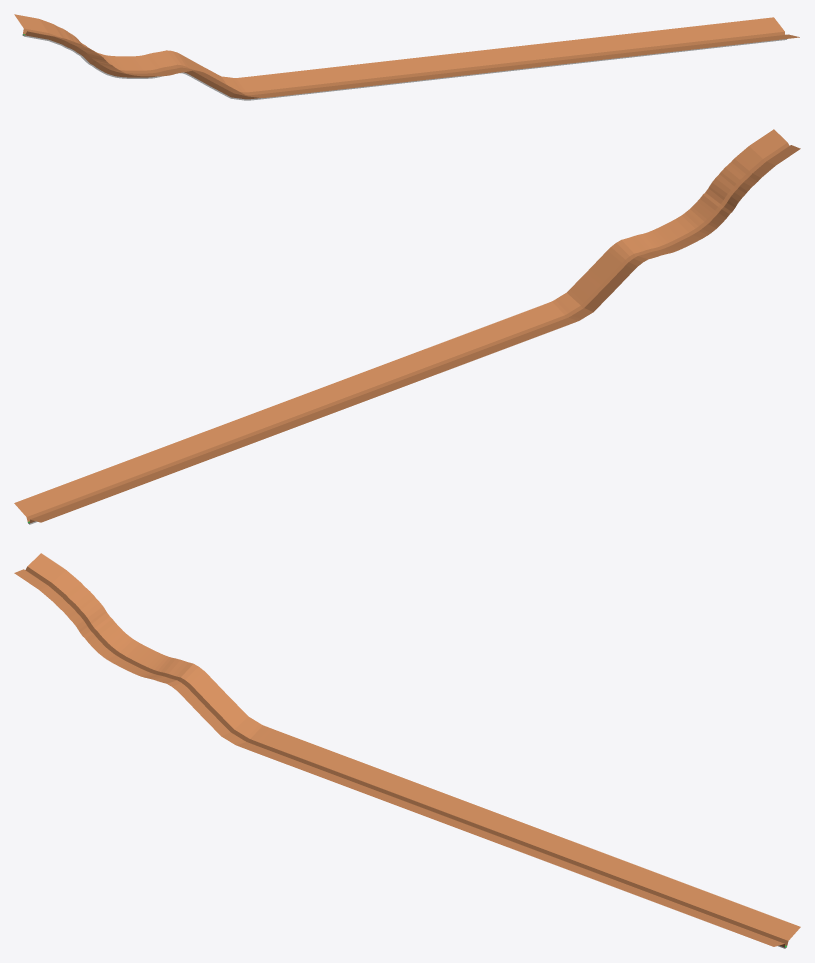
3 views of the same model, one above another, from view 1: azimuth 30°, elevation 25°; view 2: azimuth 210°, elevation 25°; view 3: azimuth 330°, elevation 25° (orthographic).
Parts seen in each view (by area): view 1: Cube; view 2: Cube; view 3: Cube.
Boxes of the visible parts, x1=… form: Cube: x1=14, y1=14, x2=799, y2=100; Cube: x1=14, y1=129, x2=800, y2=524; Cube: x1=14, y1=553, x2=800, y2=948.
Bounding box in the file's own units: 122719 × 30715 × 7538.
